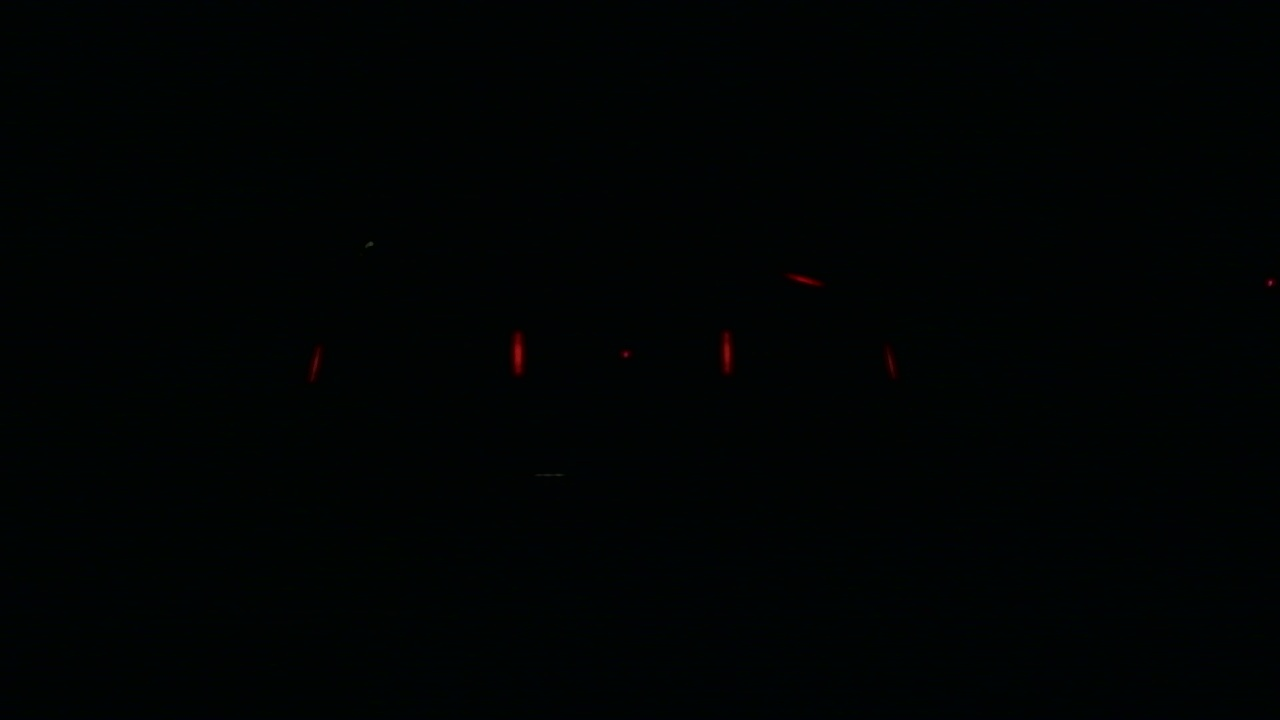lamp: (510, 329, 524, 372), (718, 329, 731, 375)
pair2: (511, 330, 733, 377)
